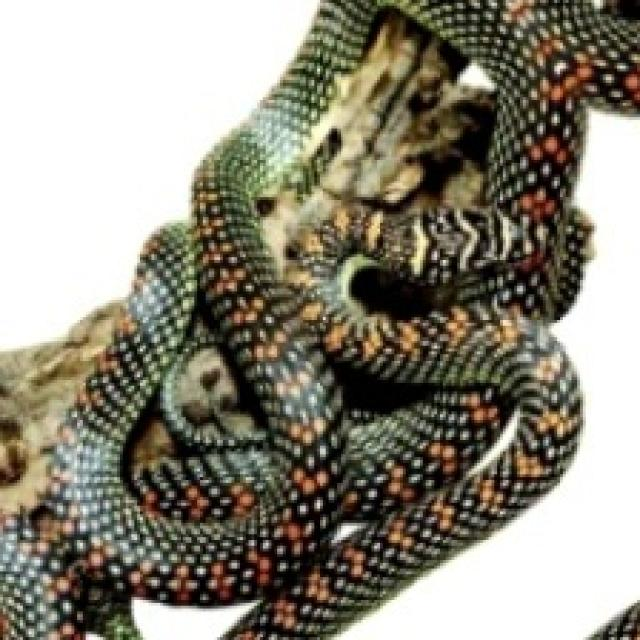paradise tree snake: (337, 111, 637, 637), (0, 0, 194, 346), (160, 140, 197, 217), (140, 206, 163, 237)
